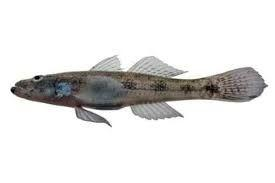Goby: (7, 50, 272, 125)
